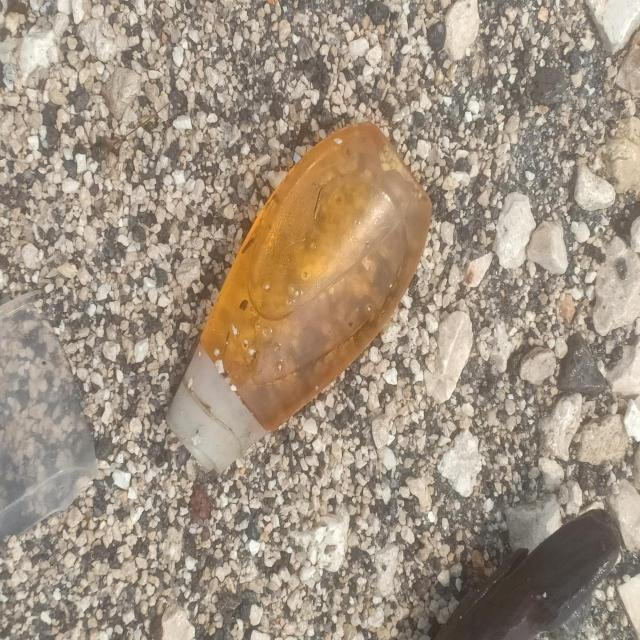plastic_waste: (166, 122, 434, 478)
